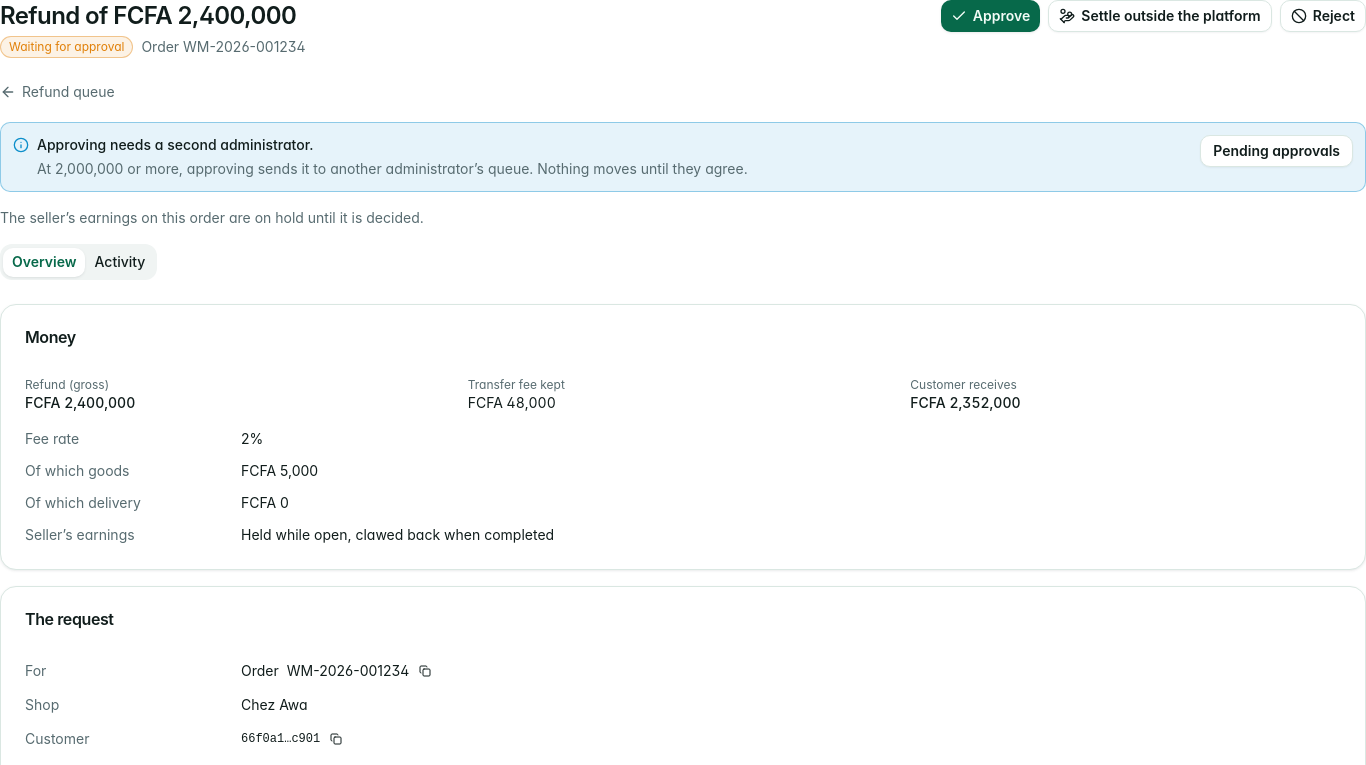
Scenario: the two four-eyes rules › renders a queued approval as waiting, with the approvals queue linked
Click the button "Approve": (991, 16) [941,0,1040,32]
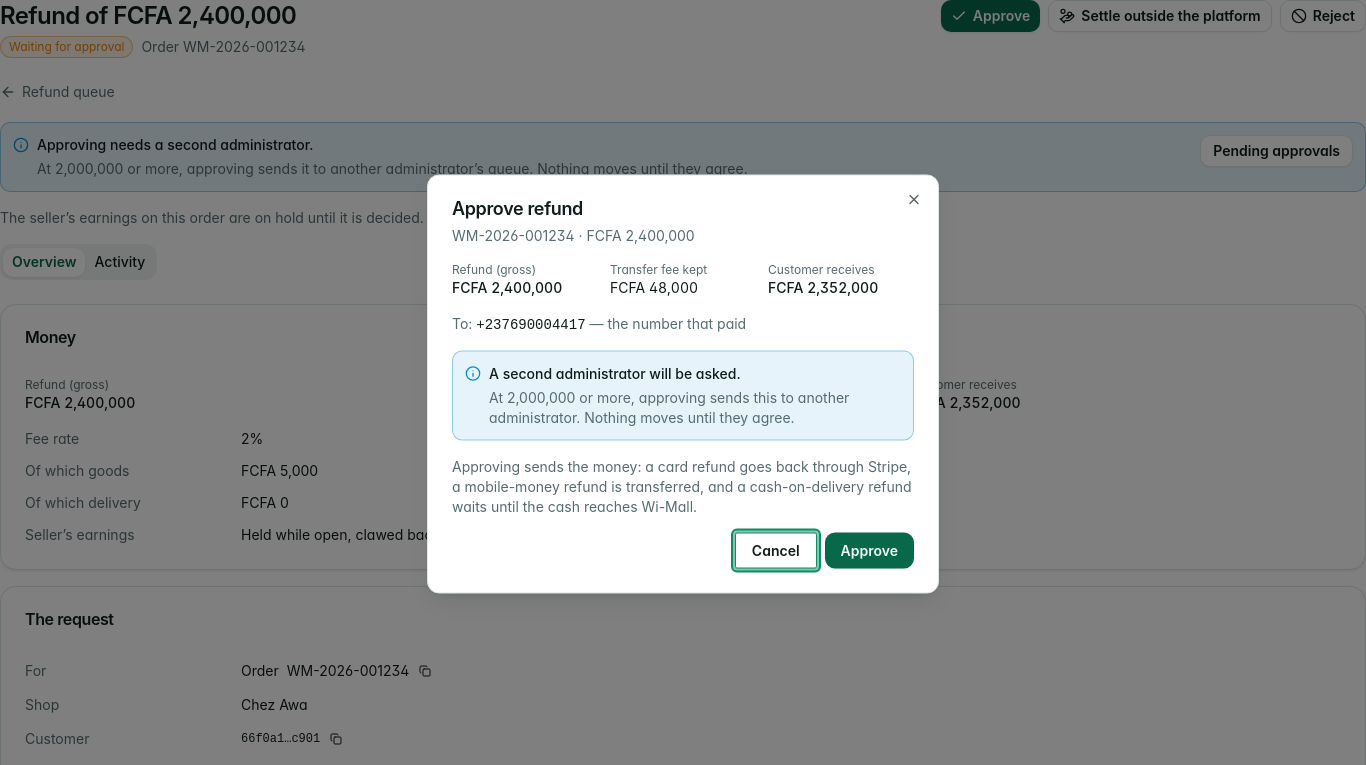
Click the button "Approve": (869, 550) [825,532,914,568]
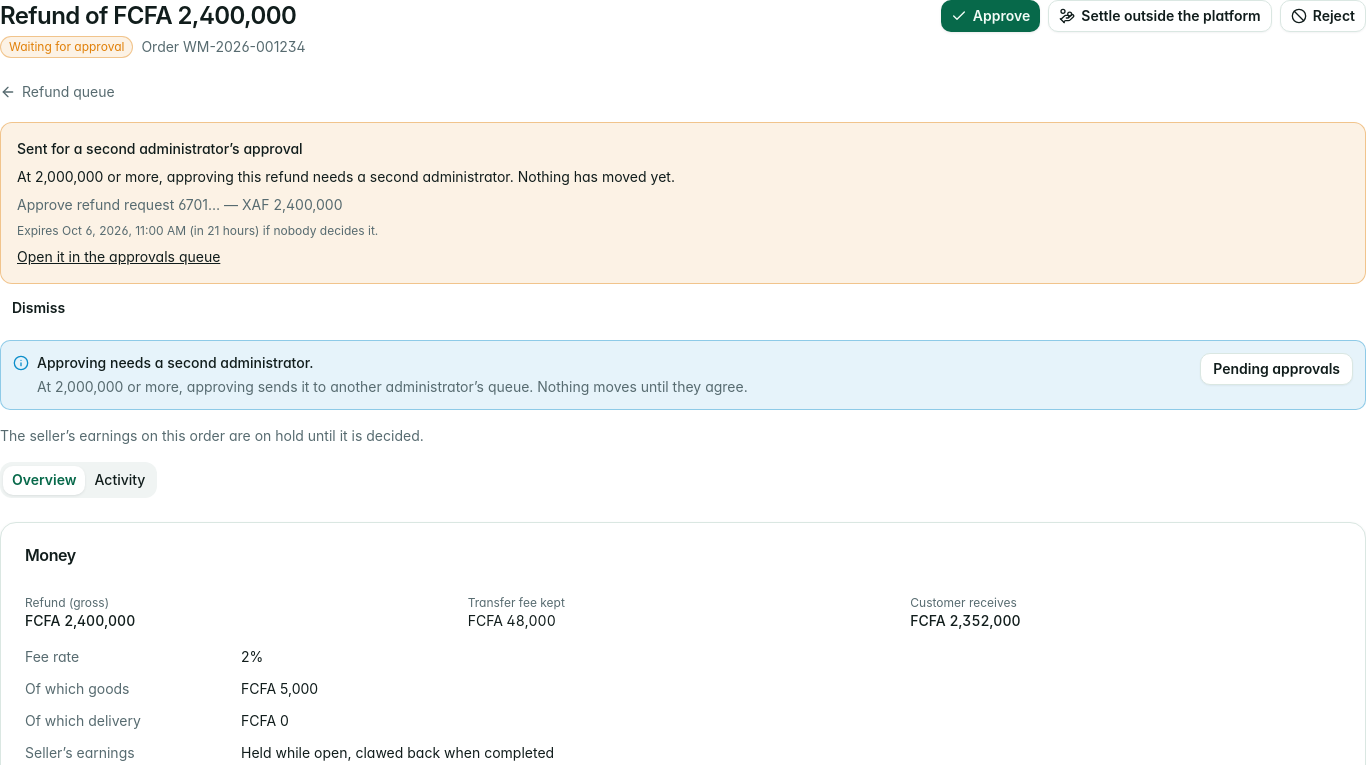
Now the text "Sent for a second administrator’s approval" is shown, box [17,140,303,157]
